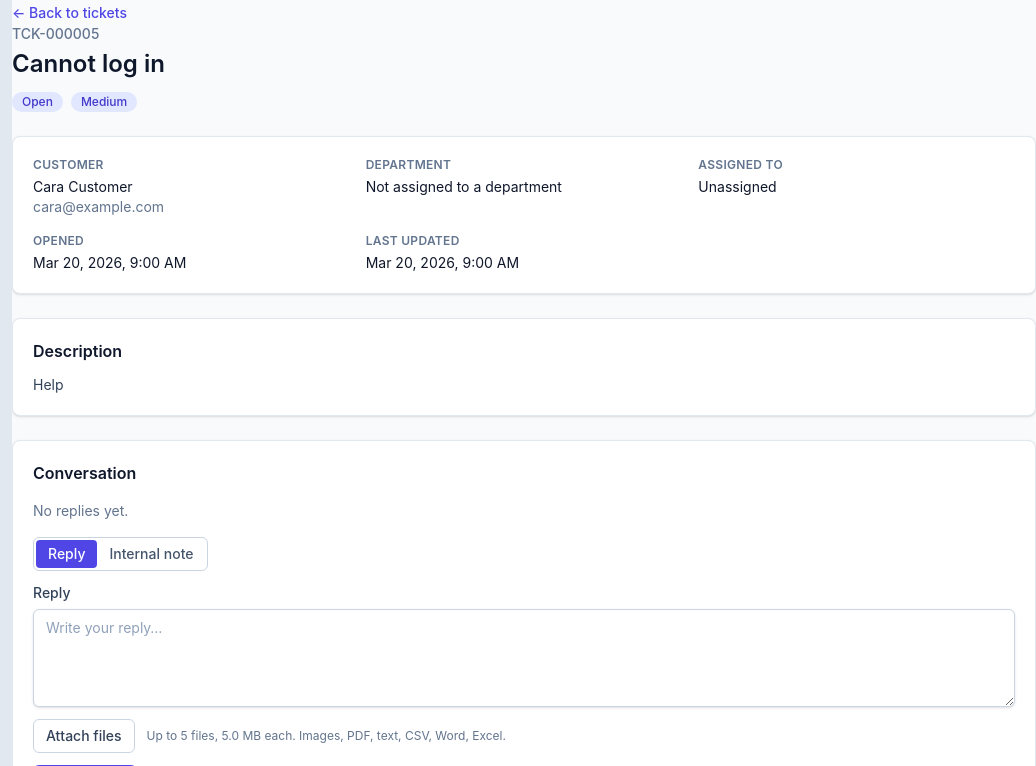
Test: ticket conversation › lets staff switch between a reply and an internal note
Expected: the text box labelled "Reply" is shown, [33,609,1015,707]
Click the button "Internal note". click: click(151, 554)
box: [97,540,205,568]
(page scrolled)
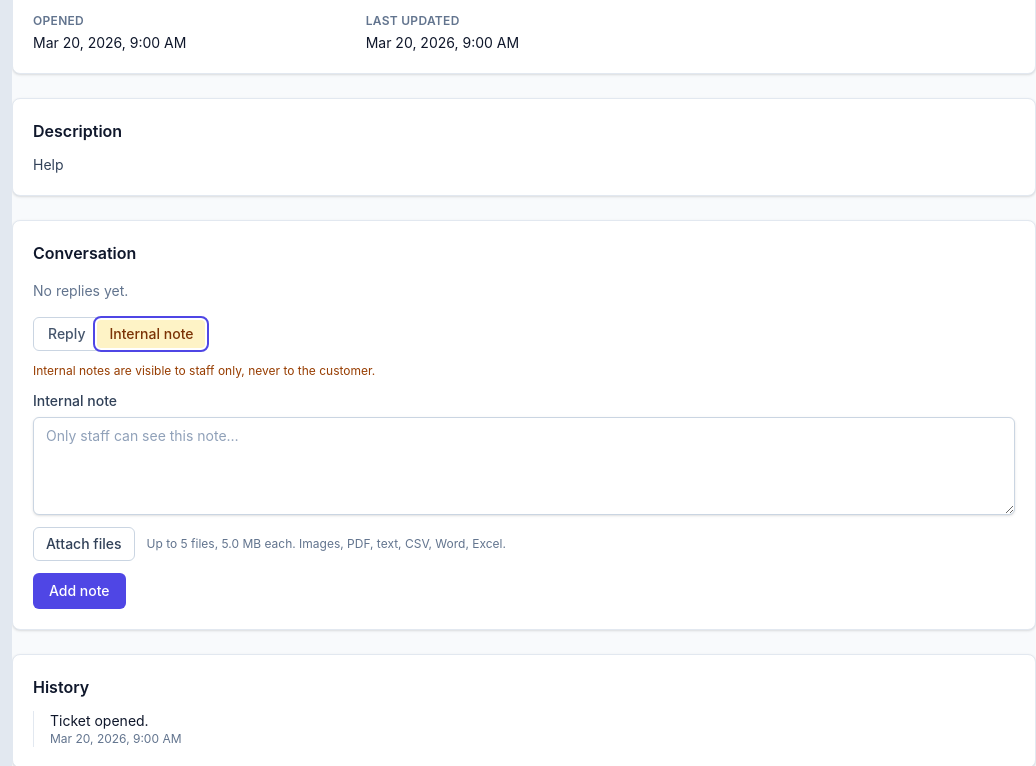
Expected: the text box labelled "Internal note" is shown, [33,417,1015,515]
Now the text "visible to staff only" is shown, box [33,363,375,378]
Now the button "Add note" is shown, box [33,573,126,609]
